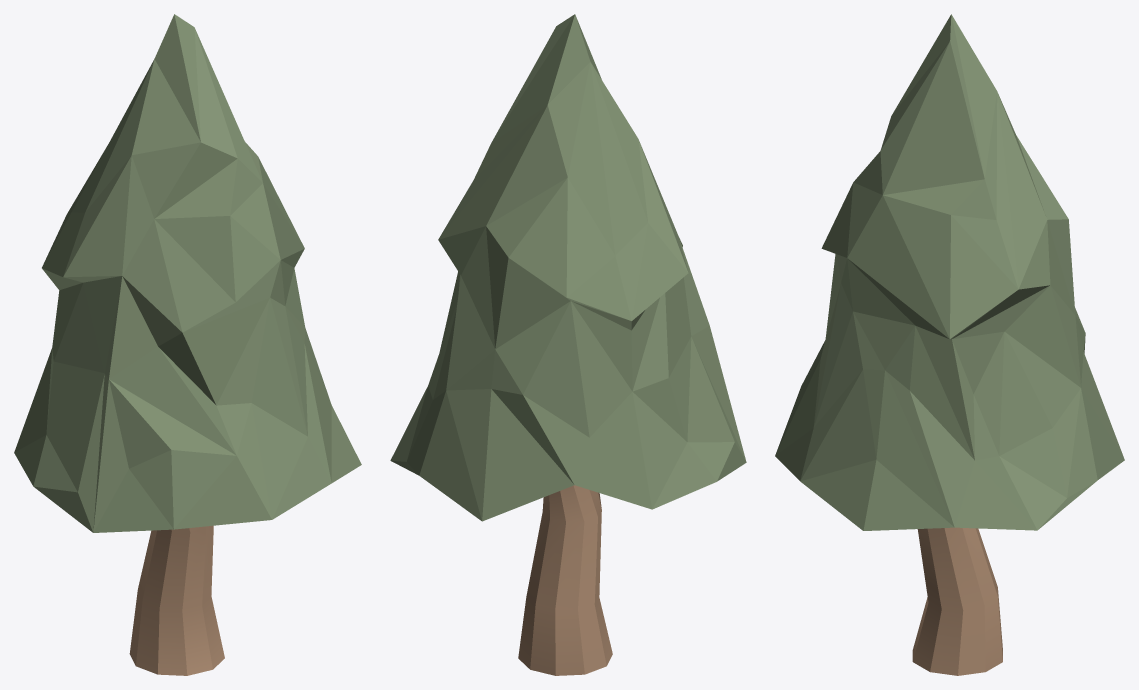
The model's file is Pine_Tree_7.fbx.
3 views of the same model, side by side, from view 1: azimuth 30°, elevation 25°; view 2: azimuth 150°, elevation 25°; view 3: azimuth 270°, elevation 25° (orthographic).
Parts seen in each view (by area): view 1: Pine_Tree_7; view 2: Pine_Tree_7; view 3: Pine_Tree_7.
Part boxes in pixels (left/top/right/bottom): Pine_Tree_7: left=14, top=14, right=361, bottom=675; Pine_Tree_7: left=390, top=14, right=746, bottom=675; Pine_Tree_7: left=775, top=14, right=1124, bottom=675.
Size of the model in its own units: 1.11 by 2.28 by 1.13.
